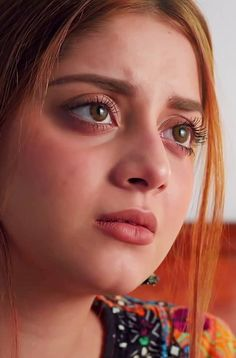NoMask: (44, 63, 204, 295)
